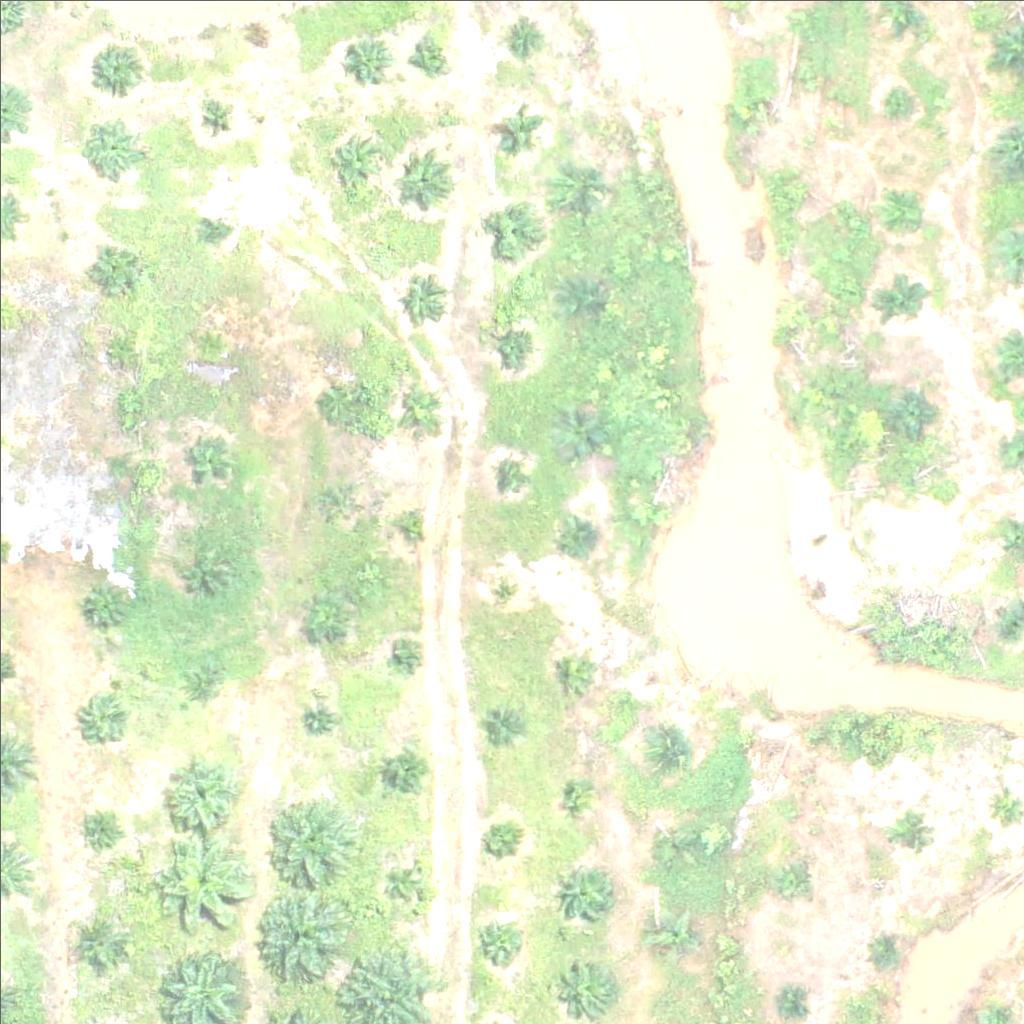Kelapa_Sawit: (152, 836, 252, 937), (157, 748, 245, 836), (266, 799, 354, 887), (254, 891, 342, 979), (325, 129, 388, 192), (86, 33, 148, 96), (82, 115, 144, 178), (553, 858, 615, 921), (392, 147, 454, 210), (308, 376, 358, 427), (88, 246, 138, 297), (562, 967, 612, 1018), (395, 382, 445, 433), (549, 643, 599, 694), (646, 910, 696, 961), (74, 919, 124, 969), (487, 312, 537, 362), (489, 203, 539, 253), (400, 270, 450, 320), (340, 34, 390, 84), (875, 269, 925, 319), (877, 179, 927, 229), (80, 690, 130, 740), (77, 576, 127, 626), (180, 437, 230, 487), (180, 544, 230, 594), (173, 658, 223, 708), (300, 588, 350, 638), (381, 748, 431, 798), (553, 404, 603, 454), (884, 384, 934, 434), (378, 857, 428, 907), (473, 921, 523, 971), (551, 153, 601, 203), (502, 110, 540, 148), (501, 19, 539, 57), (414, 36, 452, 74), (788, 59, 826, 97), (778, 172, 816, 210), (772, 297, 810, 335), (561, 515, 599, 553), (196, 99, 233, 137), (725, 97, 762, 135), (191, 324, 229, 361), (317, 479, 355, 516), (558, 772, 596, 809), (562, 277, 599, 315), (768, 984, 806, 1021), (893, 808, 930, 846), (651, 826, 689, 863), (479, 823, 516, 861), (99, 329, 136, 367), (879, 79, 916, 116), (483, 700, 520, 737), (651, 728, 688, 765), (871, 936, 908, 973), (774, 858, 811, 895), (202, 215, 227, 240), (394, 642, 419, 667), (401, 512, 426, 537), (489, 573, 514, 598), (495, 461, 520, 486), (84, 816, 109, 841), (307, 706, 331, 731)
